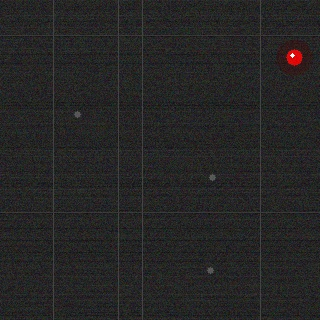red_fault: (284, 47, 304, 67)
